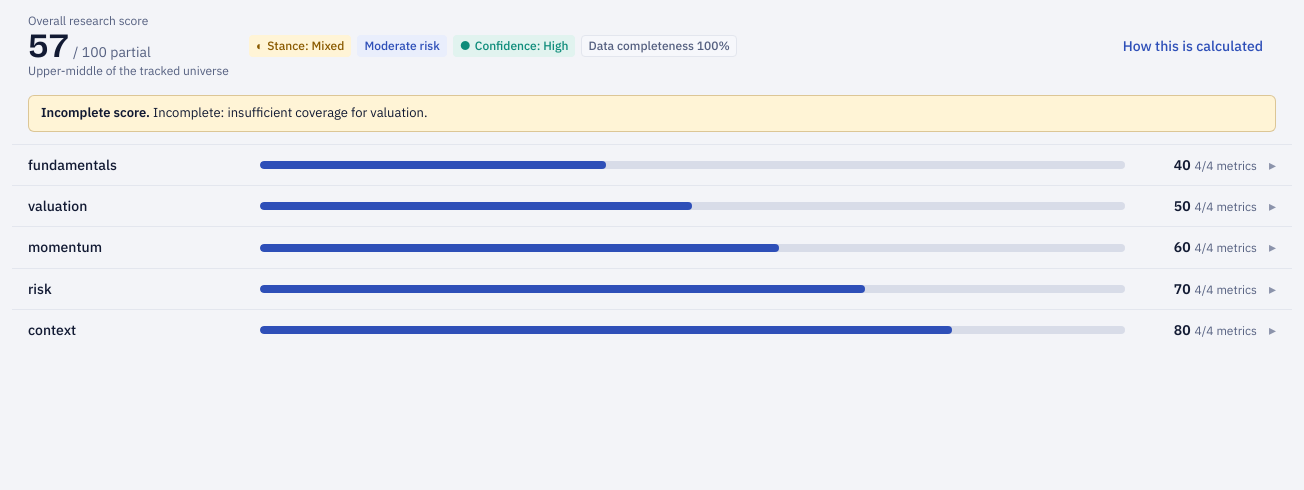
Test case: score display › shows an incomplete warning, pillar detail and the how-calculated view
The width and height of the screenshot is (1304, 490).
Expected: the text "insufficient coverage for valuation" is shown, [153,104,428,121]
Click the button "fundamentals 404/4 metrics ▸" at (652,165), box [12,145,1292,185]
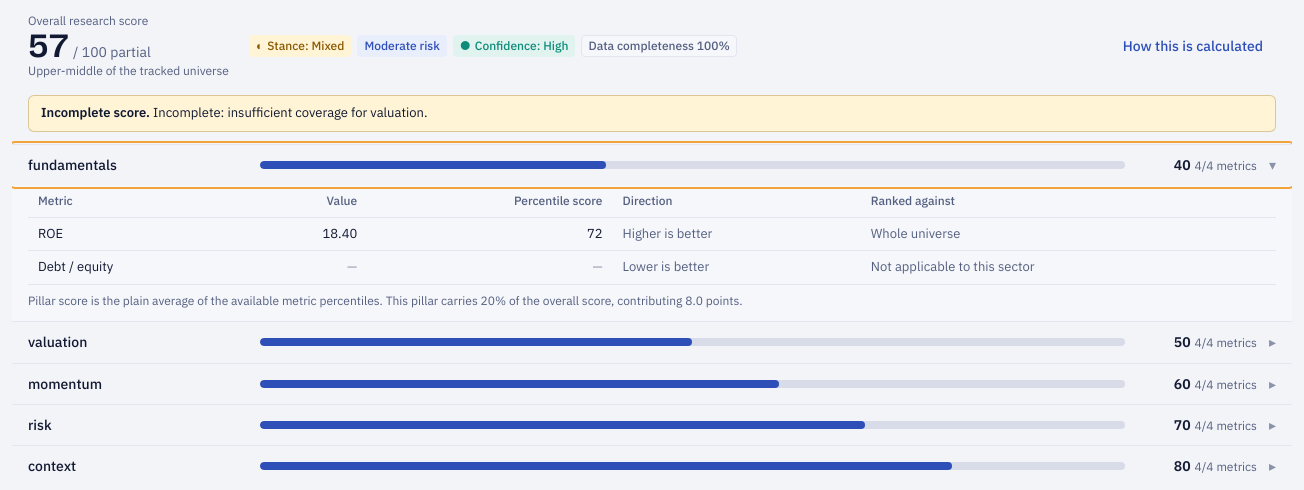
Expected: the text "Not applicable to this sector" is shown, [861,251,1276,285]
Expected: the text "Higher is better" is shown, [612,217,861,251]
Expected: the text "carries 20% of the overall score" is shown, [28,293,742,308]
